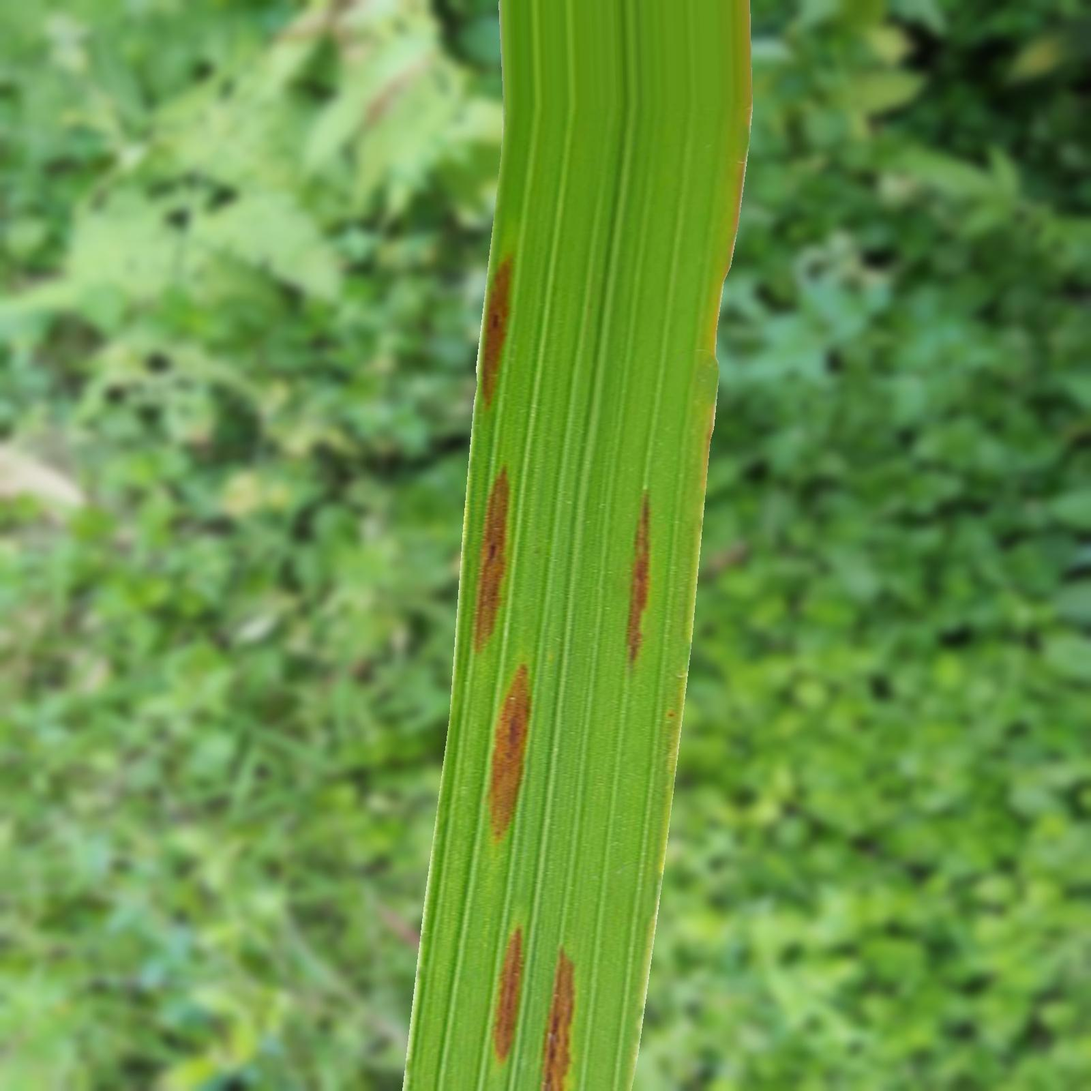LEAF: (402, 0, 752, 1090)
NBS: (488, 663, 531, 840), (474, 467, 509, 651), (481, 256, 512, 404), (542, 948, 574, 1090), (626, 490, 650, 665), (494, 928, 522, 1061)
